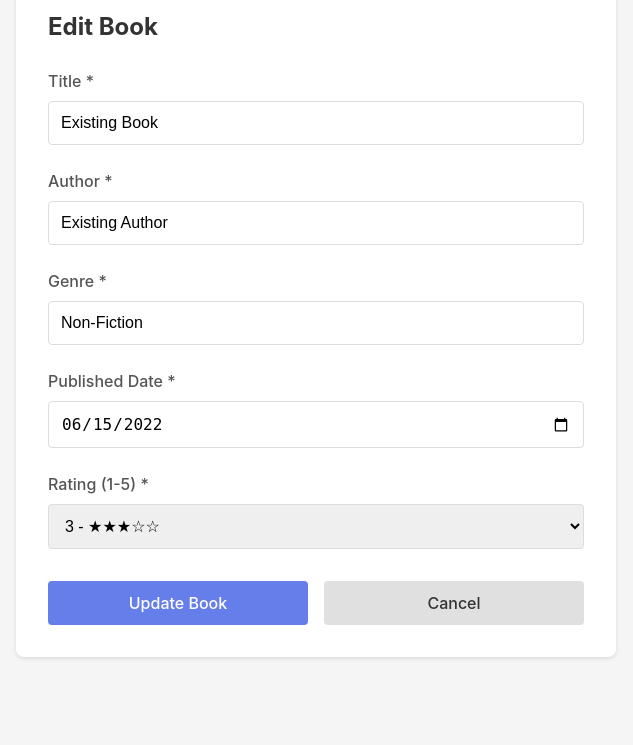
Test: BookForm › Edit Mode › updates book with valid data
# Modify a field
Step 1. Replace the text in the field labelled "Title *" with "Updated Book Title" → (316, 123), box top-left (48, 101), bottom-right (584, 145)
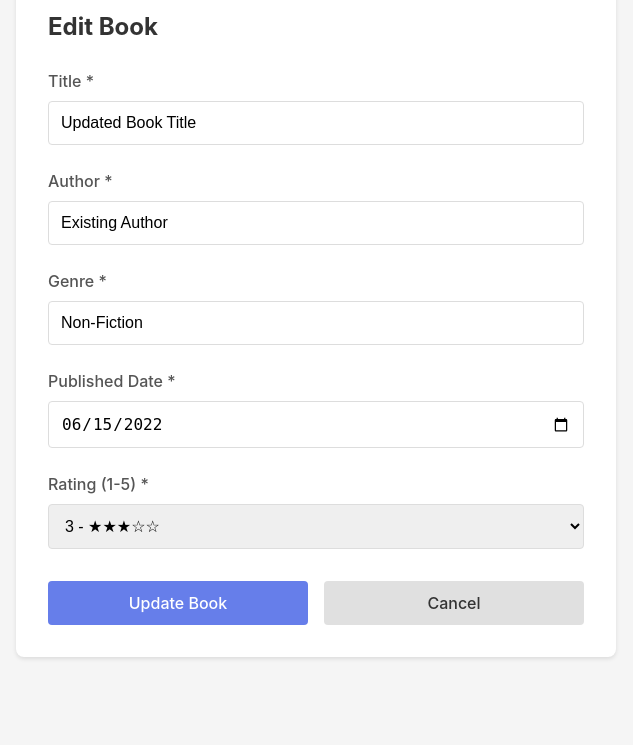
Step 2. Click the button "Update Book" → (178, 603), box top-left (48, 581), bottom-right (308, 625)
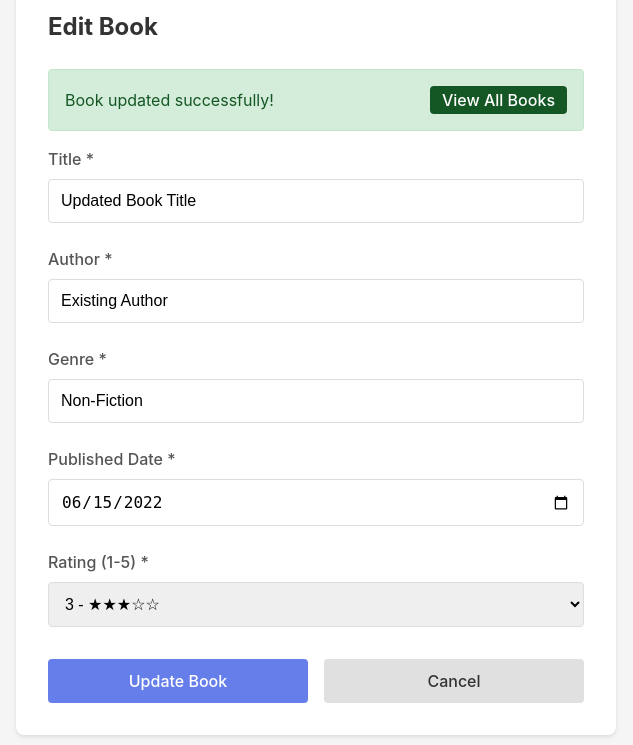
Check: the text "Book updated successfully!" is shown, box top-left (65, 88), bottom-right (274, 112)
